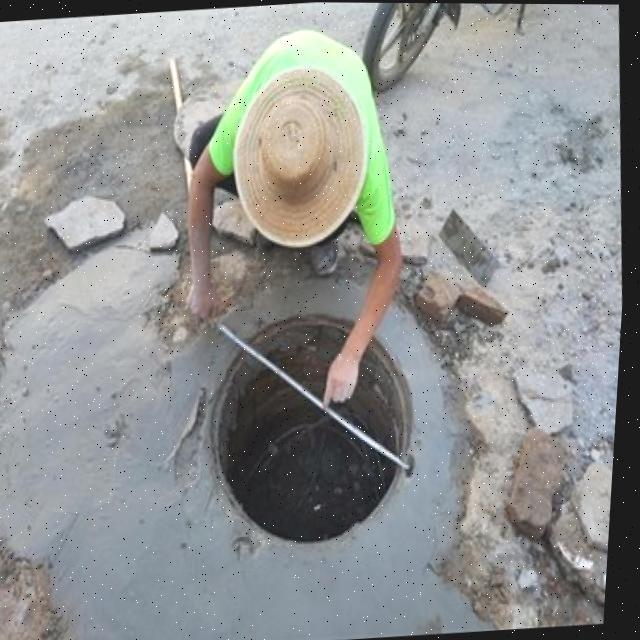manhole: (195, 300, 431, 553)
